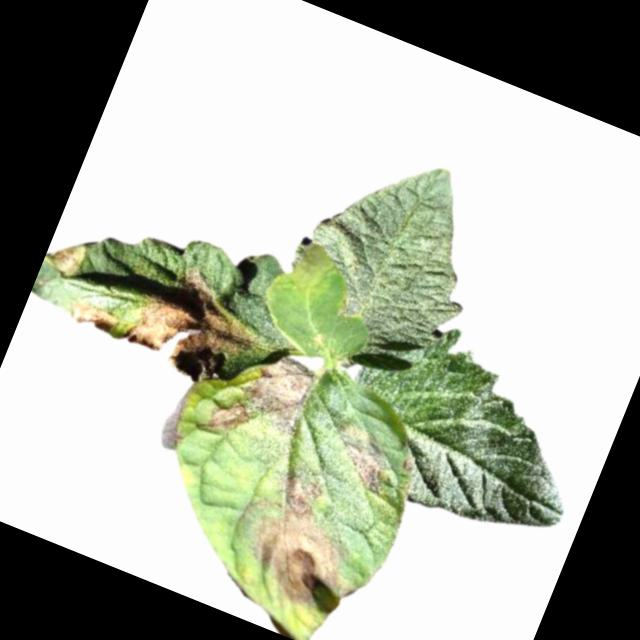Late_blight: (218, 458, 389, 623), (120, 254, 274, 398), (234, 345, 321, 439), (319, 416, 399, 492), (283, 238, 338, 301), (65, 295, 124, 342), (42, 234, 90, 284), (207, 392, 255, 440)
healthy: (321, 301, 616, 557), (264, 127, 510, 392)
